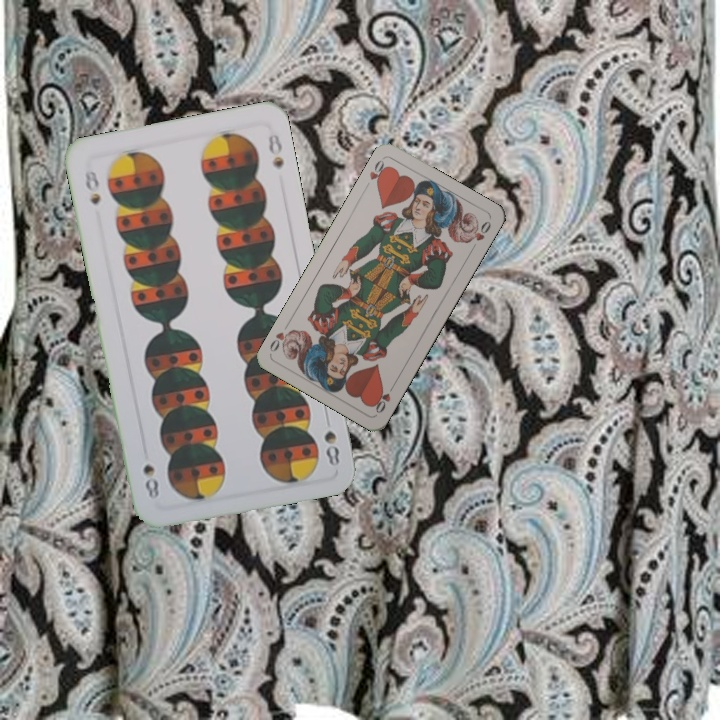HO: (361, 156, 391, 192), (369, 379, 398, 416)
S8: (320, 426, 342, 469), (81, 166, 103, 208)
